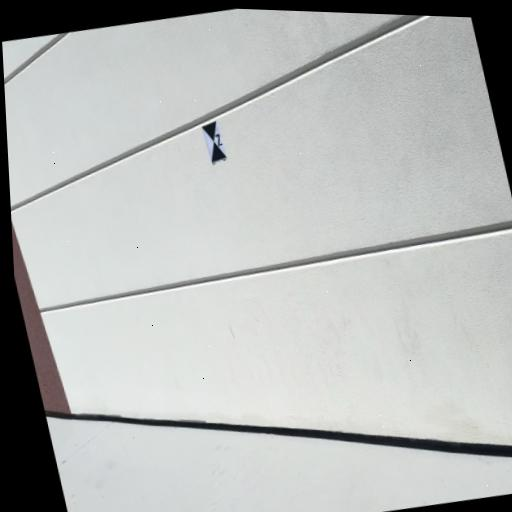target7: (201, 120, 227, 163)
